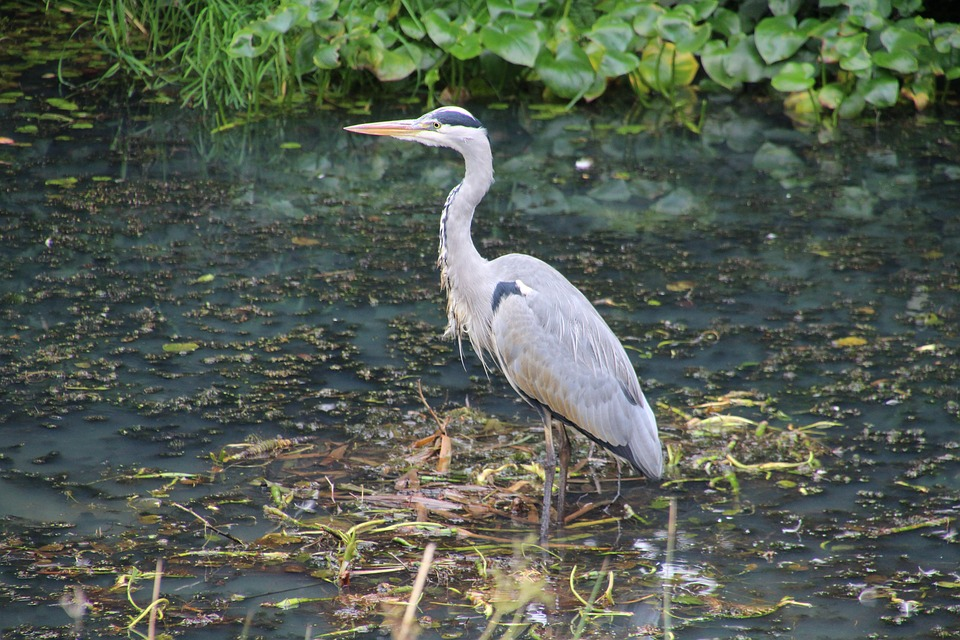heron: (335, 85, 669, 549)
